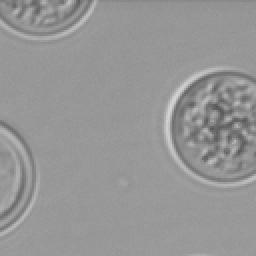picoshell: (162, 66, 254, 186), (0, 122, 38, 236)
